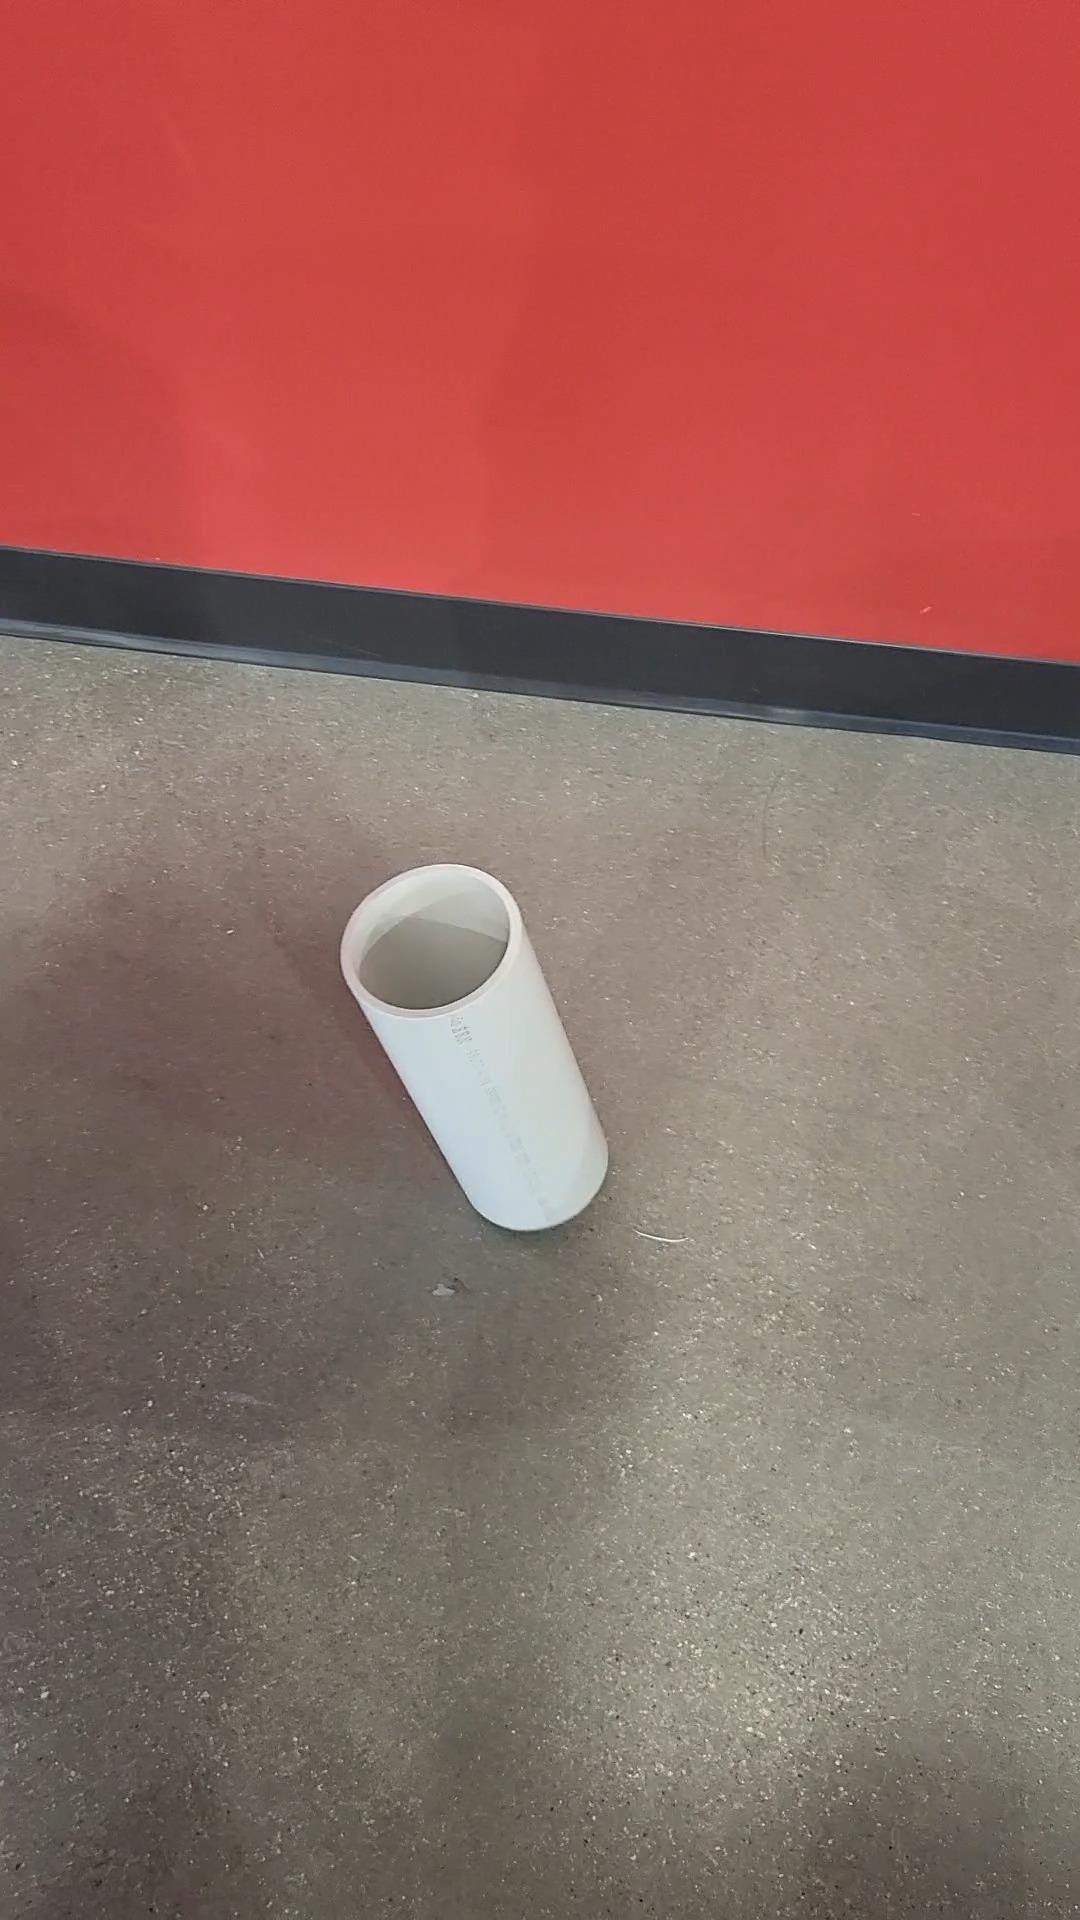coral: (338, 861, 612, 1234)
